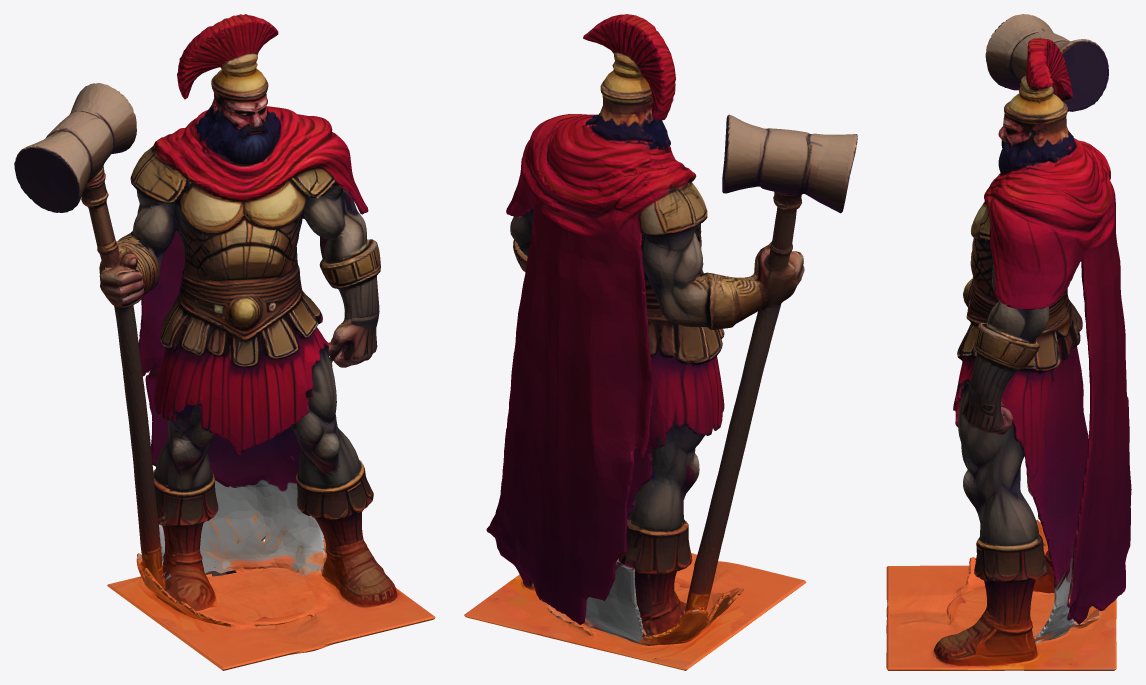
Rendered from model.hunyuan_v1.glb.
3 renders of one model, left to right at view 1: azimuth 30°, elevation 25°; view 2: azimuth 150°, elevation 25°; view 3: azimuth 270°, elevation 25°, orthographic. The views are drawn at different scales.
Parts seen in each view (by area): view 1: textured_mesh.obj; view 2: textured_mesh.obj; view 3: textured_mesh.obj.
Part boxes in pixels (x1=…): textured_mesh.obj: x1=14, y1=14, x2=435, y2=670; textured_mesh.obj: x1=464, y1=14, x2=857, y2=670; textured_mesh.obj: x1=886, y1=14, x2=1131, y2=670.
Size of the model in its own units: 1.21 by 1.99 by 0.7671.
Materials: 1 (1 with a texture image).
